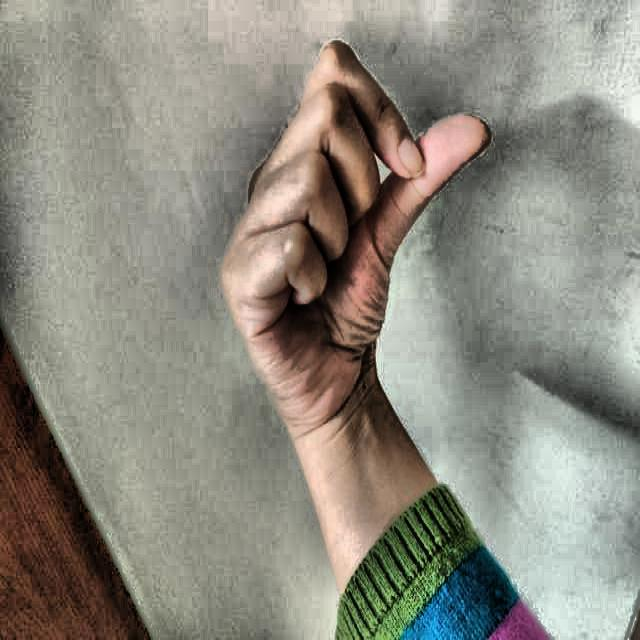Ay: (202, 15, 505, 428)
